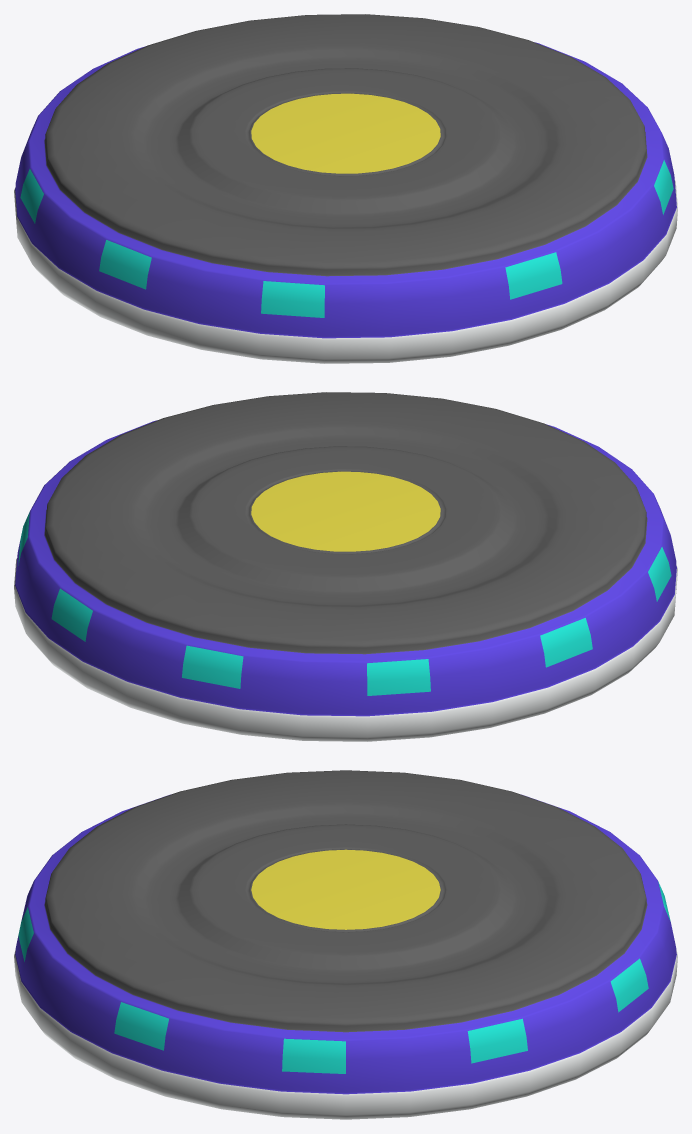
The model's file is combine.fbx.
3 renders of one model, top to bottom at view 1: azimuth 30°, elevation 25°; view 2: azimuth 150°, elevation 25°; view 3: azimuth 270°, elevation 25°, orthographic.
Parts seen in each view (by area): view 1: Cylinder; view 2: Cylinder; view 3: Cylinder.
Part boxes in pixels (box(x1,y1,x2,y2)): Cylinder: box(14, 14, 677, 363); Cylinder: box(14, 392, 677, 741); Cylinder: box(14, 770, 677, 1119).
Bounding box in the file's own units: 209 × 32.65 × 209.
